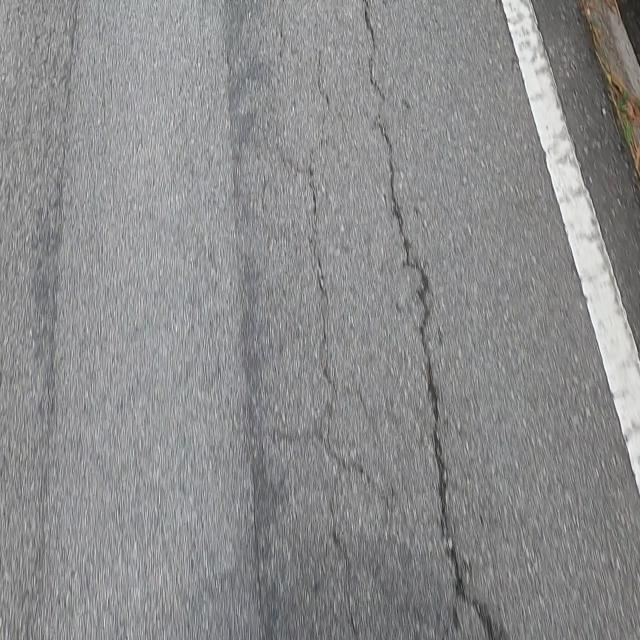Retak-Memanjang: (362, 3, 495, 640), (304, 168, 359, 640)
